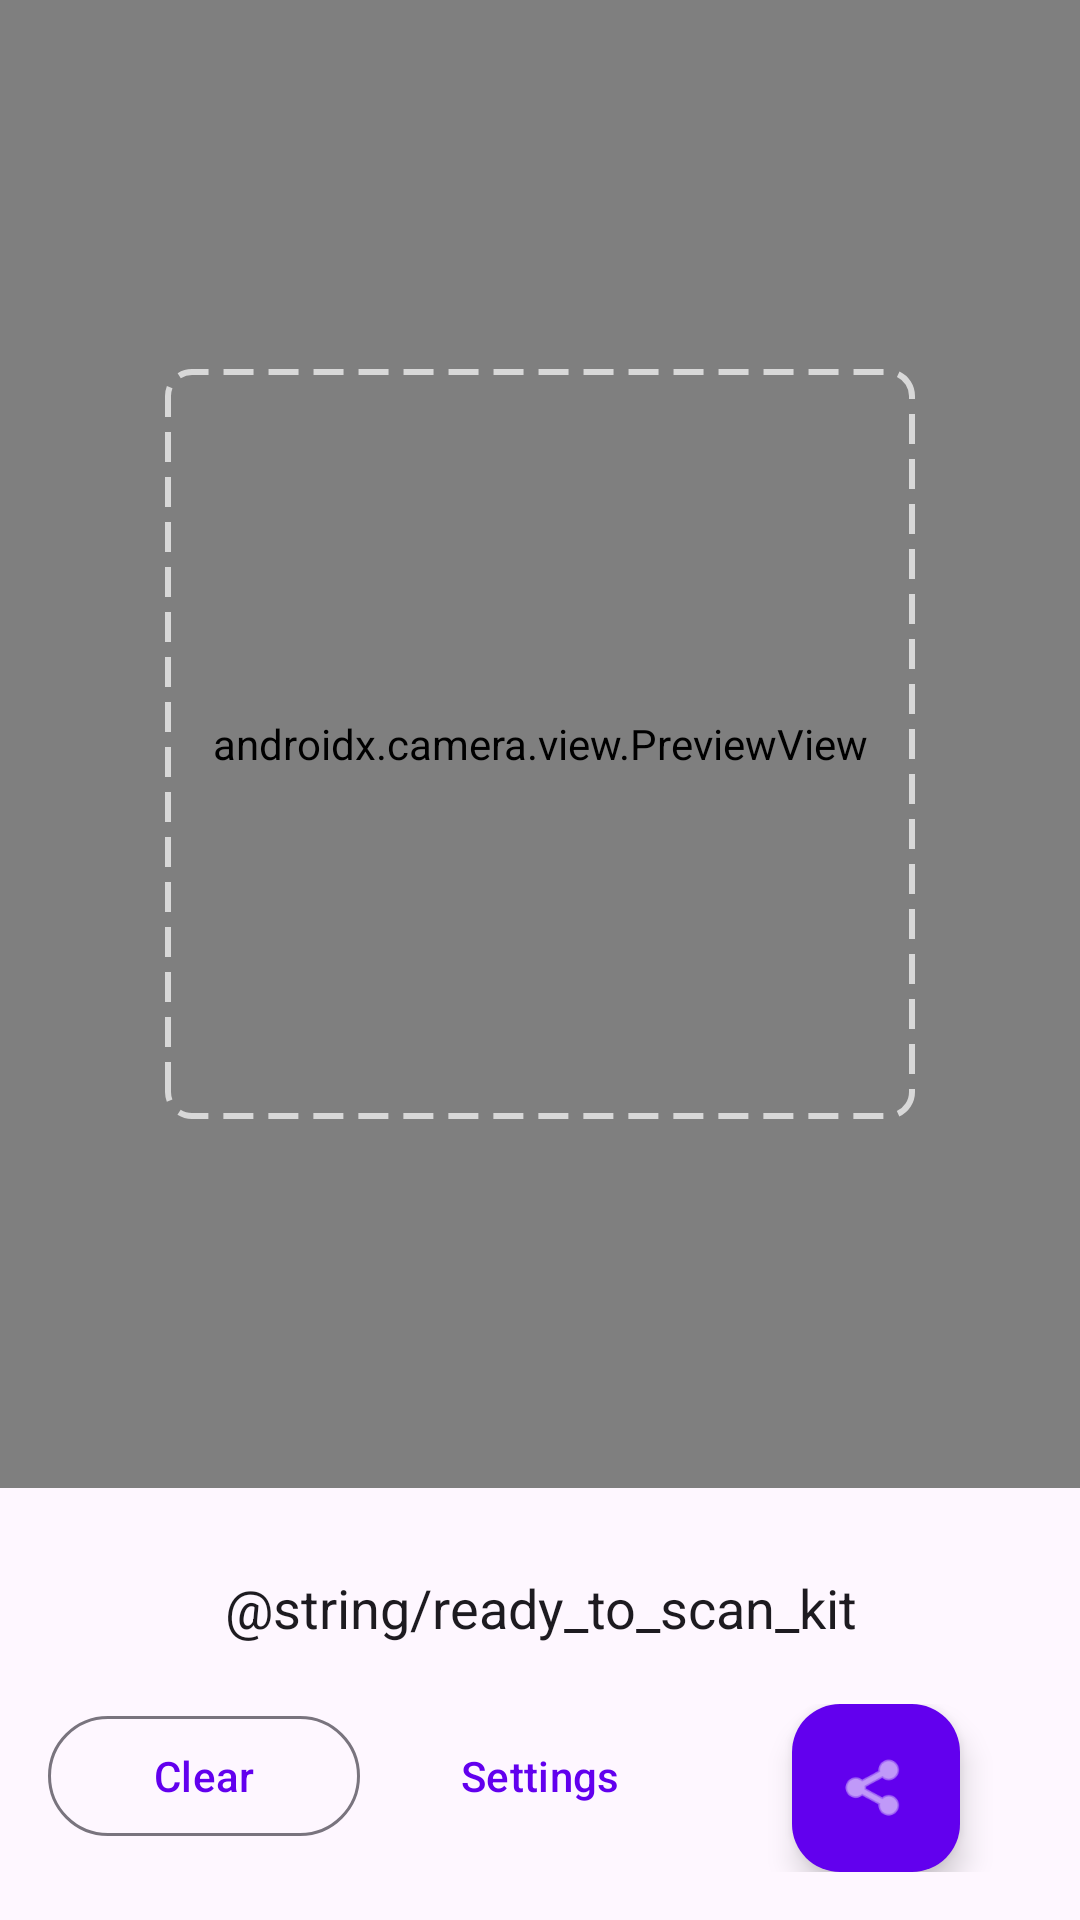

Where icons sit on this 1080px x 1920px app screen, as [x1=x1, y1=y1, x2=x2, y2=y2]:
share: [x1=792, y1=1704, x2=960, y2=1872]
